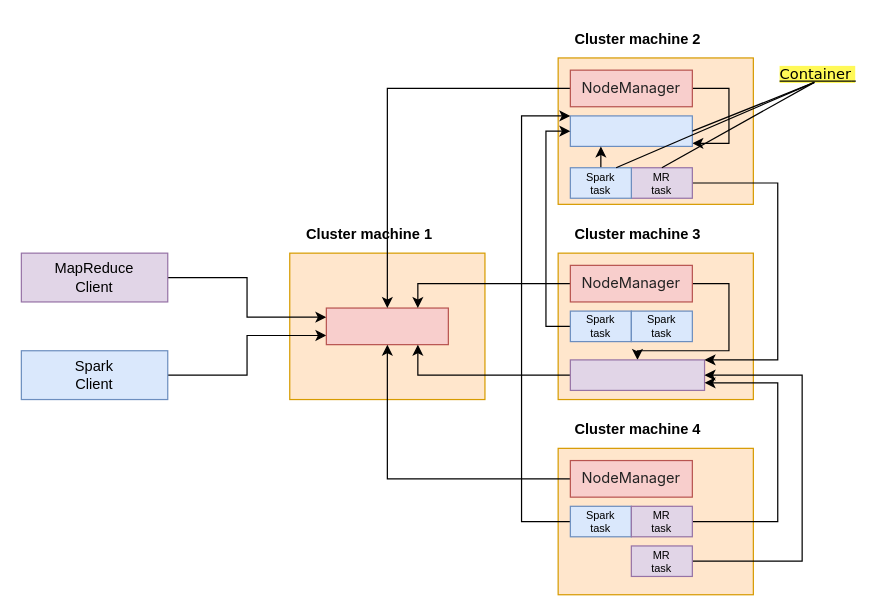
Image size: 877x616. Some labels were removed from this diagram. The box of each missing label's shape, as (x1, y1, x2, y2) in pixels:
MR ApplicationMaster: (569, 359, 705, 390)
ResourceManager: (325, 307, 448, 345)
Spark ApplicationMaster: (569, 115, 692, 146)
